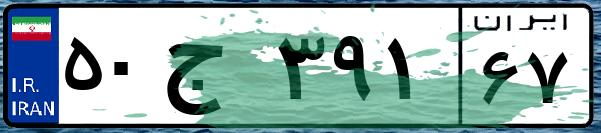0: (110, 28, 158, 98)
1: (385, 28, 445, 110)
3: (270, 28, 330, 110)
5: (57, 26, 110, 100)
6: (475, 38, 525, 113)
7: (525, 38, 570, 115)
9: (330, 28, 385, 110)
ج: (158, 20, 270, 120)
